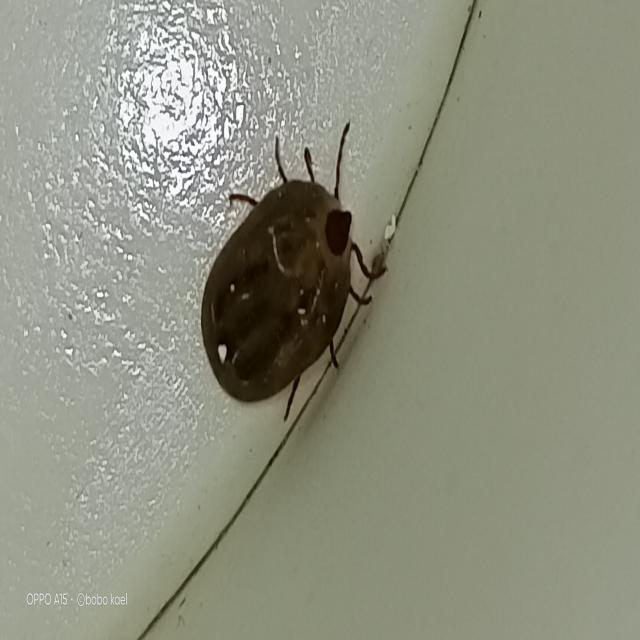Rhipicephalus Sanguineus-F-Fed: (201, 124, 380, 422)
